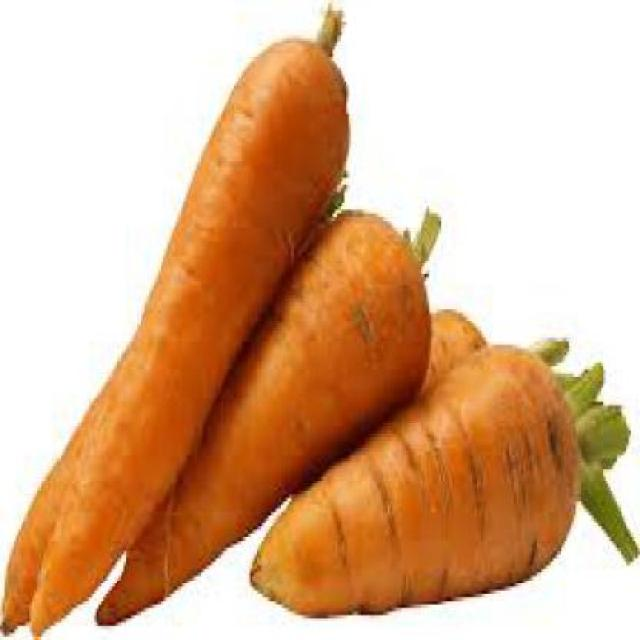BIODEGRADABLE: (32, 0, 352, 637), (96, 202, 442, 626), (252, 340, 638, 620), (2, 341, 133, 637), (422, 306, 572, 392)
